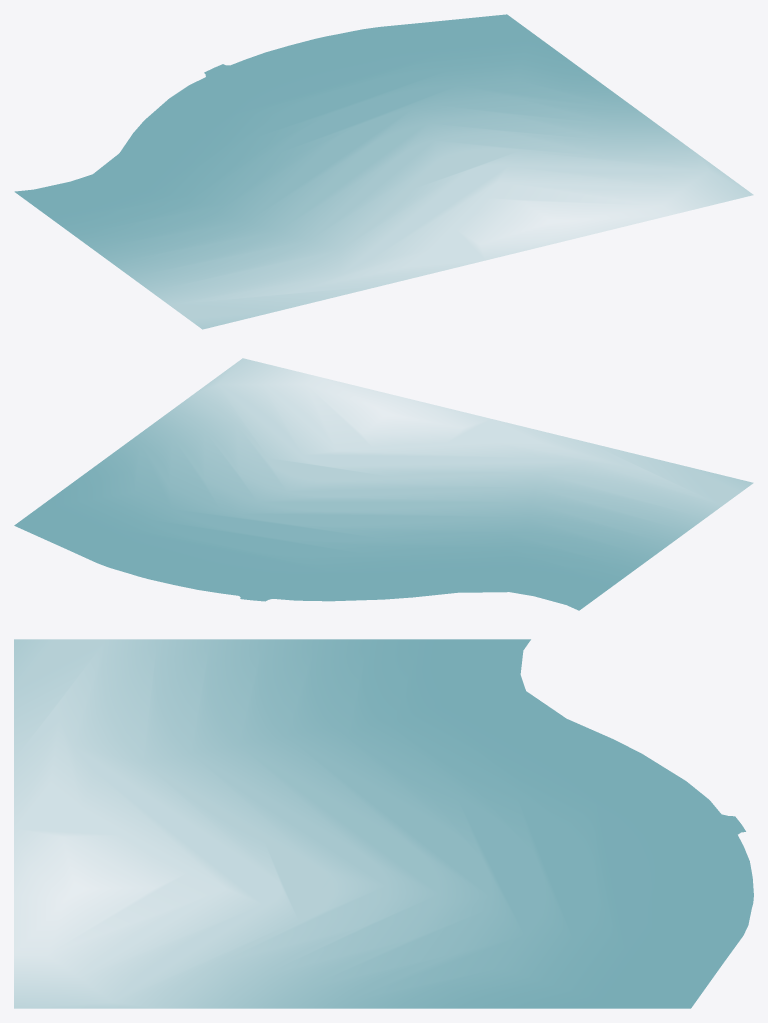
3 views of the same model, one above another, from view 1: azimuth 30°, elevation 25°; view 2: azimuth 150°, elevation 25°; view 3: azimuth 270°, elevation 25° (orthographic). The views are drawn at different scales.
Visible parts, largest first — view 1: city; view 2: city; view 3: city.
Boxes of the visible parts, x1,y1,x2,y2 form: city: [14, 14, 753, 329]; city: [14, 358, 752, 610]; city: [14, 639, 753, 1008].
Size of the model in its own units: 500 by 0 by 424.
